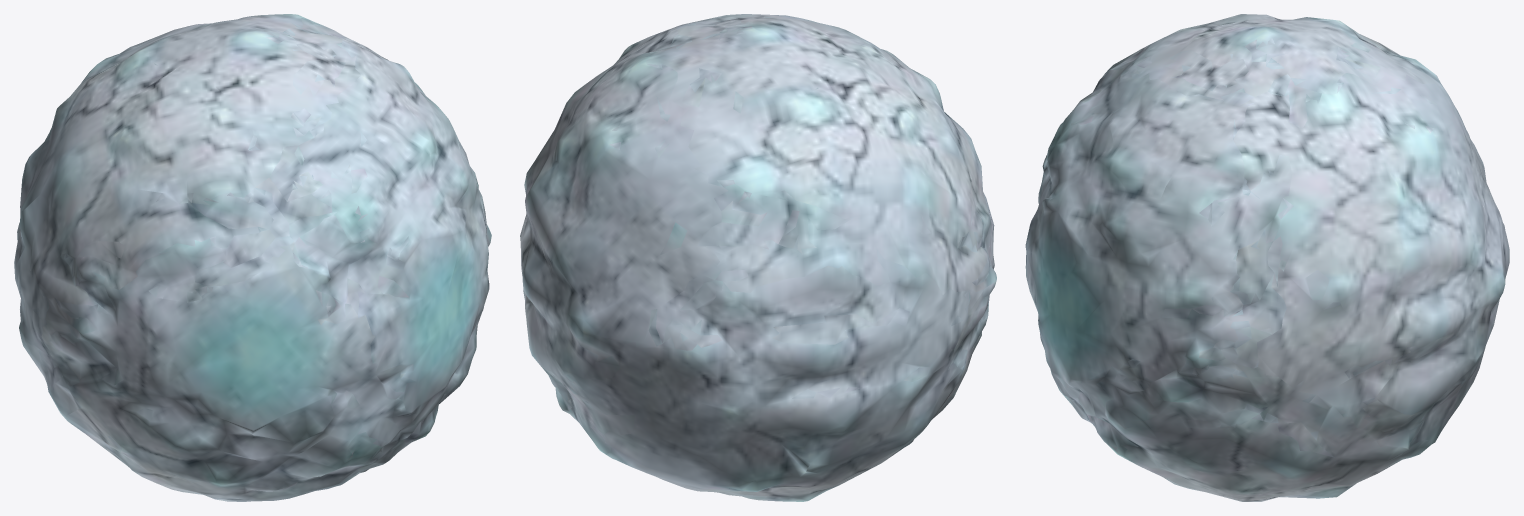
File: snowball-diet.glb
3 renders of one model, left to right at view 1: azimuth 30°, elevation 25°; view 2: azimuth 150°, elevation 25°; view 3: azimuth 270°, elevation 25°, orthographic.
Parts seen in each view (by area): view 1: Mesh_0; view 2: Mesh_0; view 3: Mesh_0.
Part boxes in pixels (x1,y1,x2,y2): Mesh_0: (14,14,491,501); Mesh_0: (520,14,996,501); Mesh_0: (1025,14,1509,501).
Bounding box in the file's own units: 1.84 × 1.9 × 1.85.
1 material, 1 textured.
